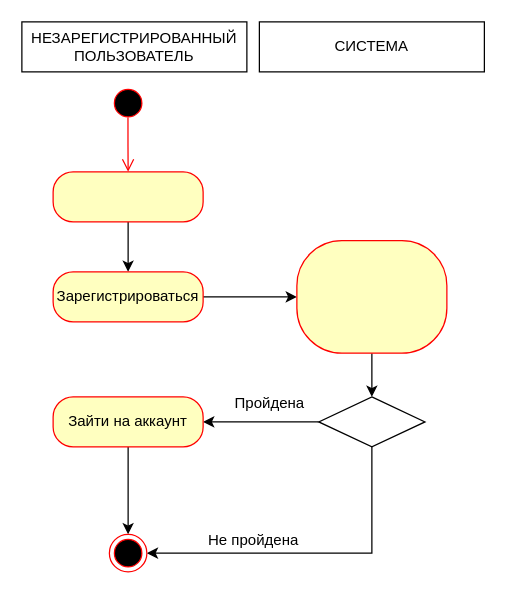
The diagram is 506 pixels wide and 594 high, and some of its shapes have lost their labels. Each missing label, with the centre of its shape:
Заполнить поля регистрации: the point at 127,196
Проверка совпадения паролей и уникальности записи почты и никнейма: the point at 371,296
